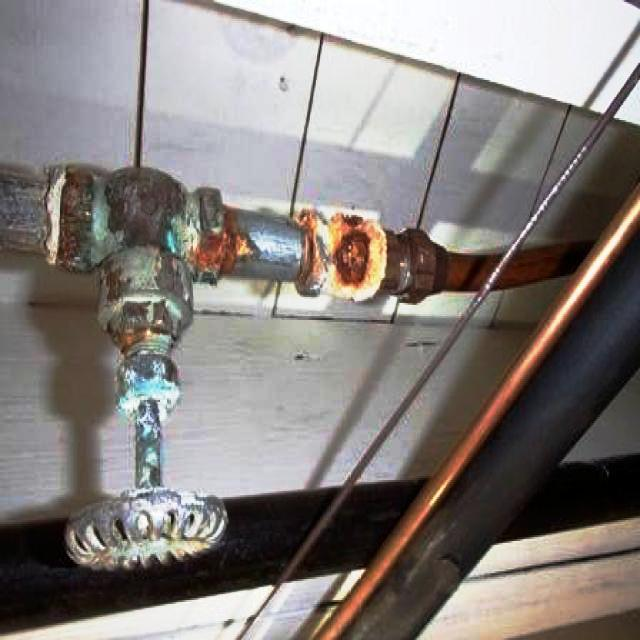Corrosion: (291, 206, 386, 304), (174, 206, 267, 282), (55, 164, 98, 275)
